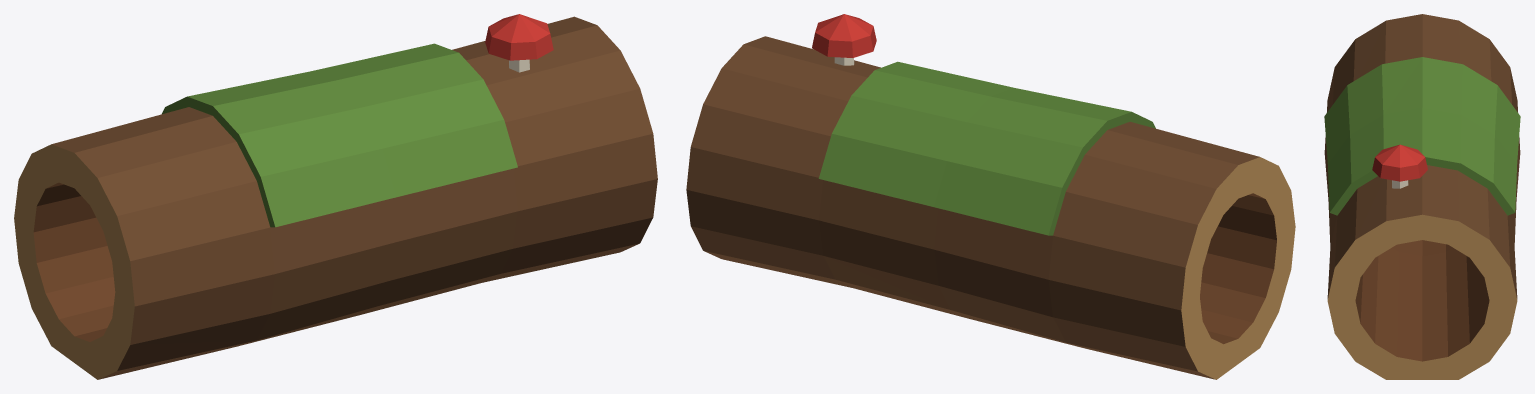
The model's file is logHollow.glb.
3 renders of one model, left to right at view 1: azimuth 30°, elevation 25°; view 2: azimuth 150°, elevation 25°; view 3: azimuth 270°, elevation 25°, orthographic. The views are drawn at different scales.
Visible parts, largest first — view 1: Hollow log body, Hollow log moss, Hollow log toadstool cap; view 2: Hollow log body, Hollow log moss, Hollow log toadstool cap; view 3: Hollow log body, Hollow log moss, Hollow log toadstool cap.
Part boxes in pixels (x1,y1,x2,y2): Hollow log body: [14, 16, 657, 379]; Hollow log moss: [162, 43, 517, 227]; Hollow log toadstool cap: [485, 14, 553, 60]; Hollow log body: [686, 36, 1295, 379]; Hollow log moss: [818, 61, 1155, 235]; Hollow log toadstool cap: [812, 14, 876, 57]; Hollow log body: [1324, 14, 1520, 379]; Hollow log moss: [1324, 57, 1520, 215]; Hollow log toadstool cap: [1372, 144, 1427, 181].
Size of the model in its own units: 1.7 by 0.7899 by 0.7026.
